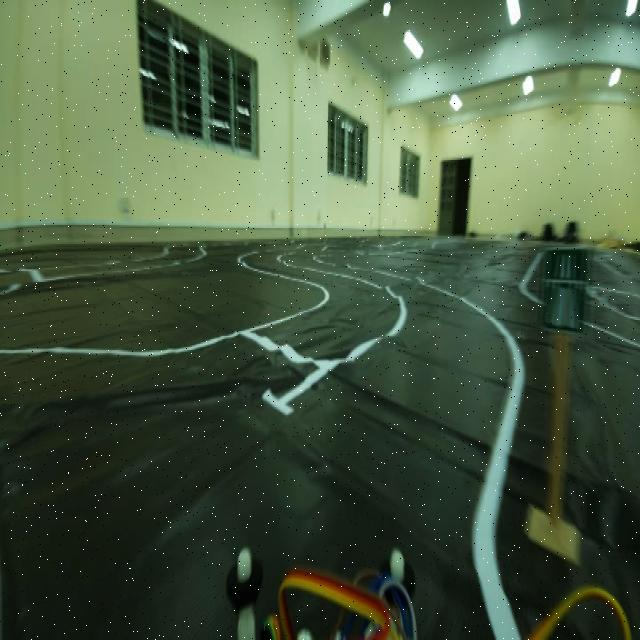highway_entry: (534, 239, 590, 342)
